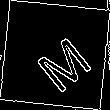M_NW: (21, 21, 89, 89)
